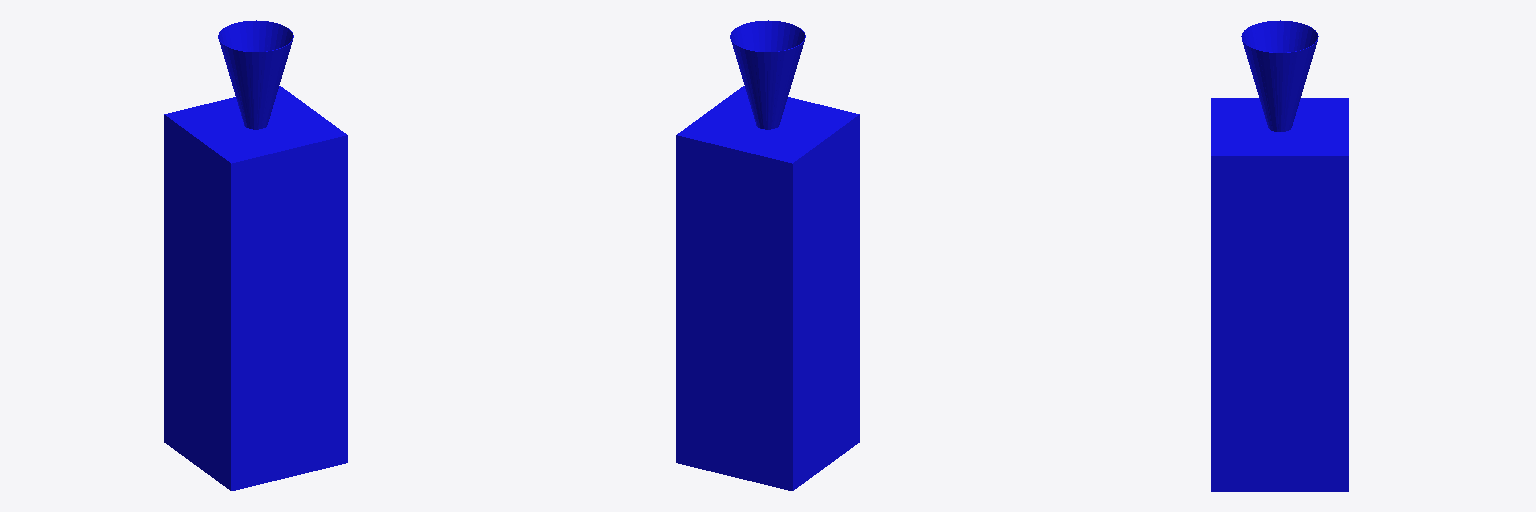
robot.urdf — hopper_short:
<?xml version="1.0" encoding="utf-8"?>
<!-- This URDF was automatically created by SolidWorks to URDF Exporter! Originally created by [author] ([email redacted]) 
     Commit Version: 1.6.0-4-g7f85cfe  Build Version: 1.6.7995.38578
     For more information, please see http://wiki.ros.org/sw_urdf_exporter -->
<robot
  name="hopper_short">
  <link
    name="hopper_short_base_link">
    <inertial>
      <origin
        xyz="0 -2.2204E-16 0.82202"
        rpy="0 0 0" />
      <mass
        value="610.69" />
      <inertia
        ixx="155.79"
        ixy="9.8978E-32"
        ixz="7.2728E-19"
        iyy="155.79"
        iyz="-4.5124E-15"
        izz="37.786" />
    </inertial>
    <visual>
      <origin
        xyz="0 0 0"
        rpy="0 0 0" />
      <geometry>
        <mesh
          filename="package://hopper_short/meshes/base_link.STL" />
      </geometry>
      <material
        name="">
        <color
          rgba="0.1 0.1 1 1" />
      </material>
    </visual>
    <collision>
      <origin
        xyz="0 0 0"
        rpy="0 0 0" />
      <geometry>
        <mesh
          filename="package://hopper_short/meshes/base_link.STL" />
      </geometry>
    </collision>
  </link>
</robot>

--- Facts derived from the render (not from the file) ---
The picture shows the robot from 3 angles, left to right: view 1: azimuth 30°, elevation 25°; view 2: azimuth 150°, elevation 25°; view 3: azimuth 270°, elevation 25°; orthographic projection.
Robot: hopper_short — 1 links, 0 joints (none); root link hopper_short_base_link; default pose: all joints at 0.
Visible links, largest first — view 1: hopper_short_base_link; view 2: hopper_short_base_link; view 3: hopper_short_base_link.
Link boxes in pixels (x1=…): hopper_short_base_link: x1=164, y1=20, x2=347, y2=490; hopper_short_base_link: x1=676, y1=20, x2=859, y2=490; hopper_short_base_link: x1=1211, y1=20, x2=1348, y2=491.
Bounding box of the posed robot: 0.6096 × 0.6096 × 2.08 m (x, y, z).
Meshes: 1 distinct files referenced, 1 mesh visuals loaded (1 binary STL).